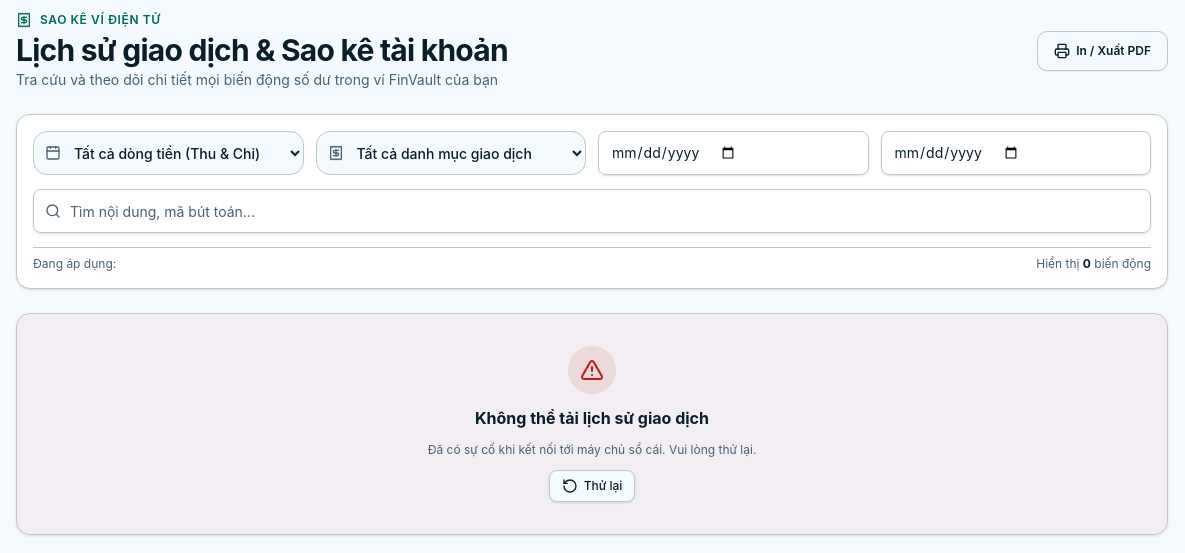
Test case: TransactionsPage - Cursor Pagination & Ledger [K22-1] › xử lý trạng thái lỗi tải sổ cái: hiển thị thông báo lỗi và nút Thử lại
The width and height of the screenshot is (1185, 553).
Expected: the heading "Không thể tải lịch sử giao dịch" is shown, [475,408,709,428]
Note: Bấm thử lại
Click the button "Thử lại" at (592, 486), box [549,470,635,502]
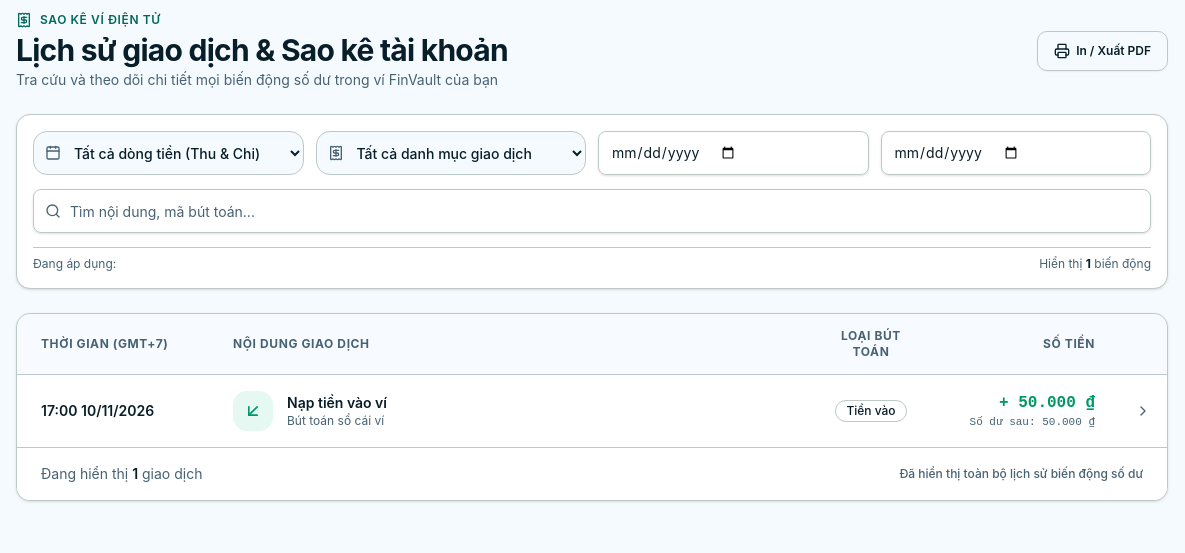
Now the text "+ 50.000 ₫" is shown, box [999,394,1095,412]
